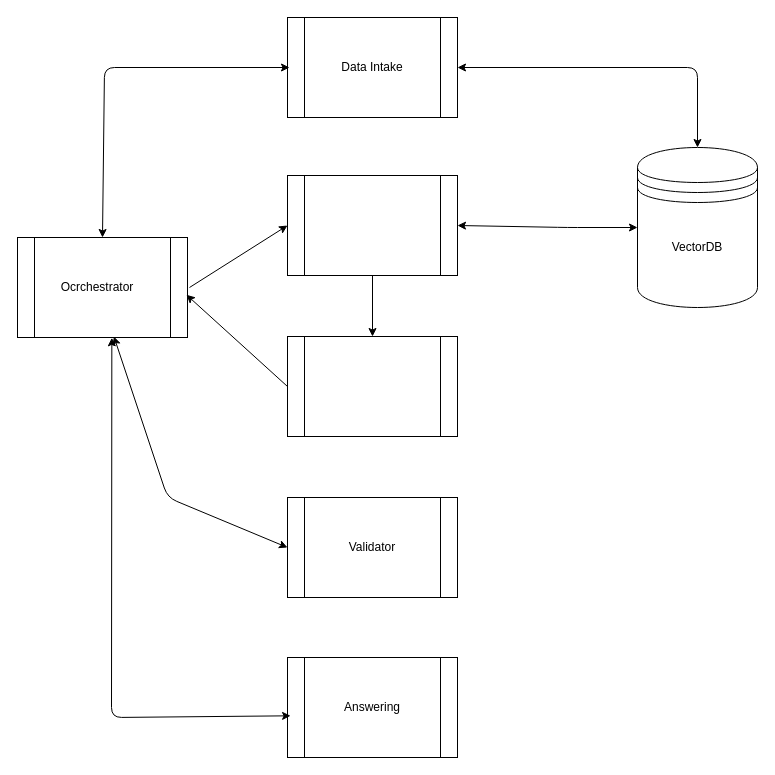
This 775x775 diagram has some shape labels left out. Here are the shapes that lost their labels. From the top down, the centre of each, then its label:
At point (372, 225): "Retrieval".
At point (372, 386): "Rerank".
